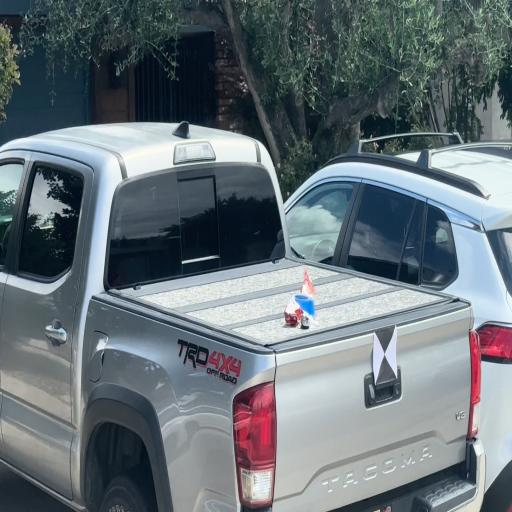target: (374, 325, 398, 382)
